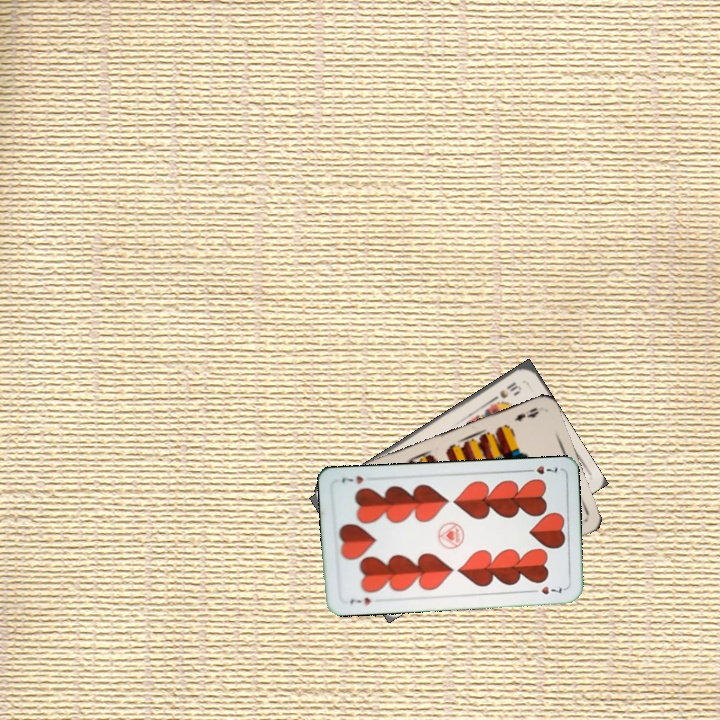E9: (510, 403, 541, 424)
H7: (521, 461, 560, 477), (346, 593, 373, 607)
S10: (488, 378, 523, 404)
